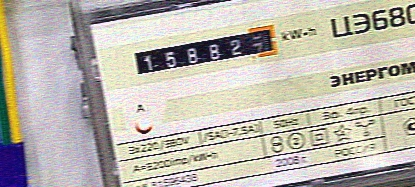1: (141, 53, 154, 73)
2: (228, 38, 241, 56)
5: (162, 50, 176, 69)
7: (250, 40, 263, 55)
8: (185, 46, 198, 64), (207, 43, 220, 60)
screen: (125, 21, 284, 81)
